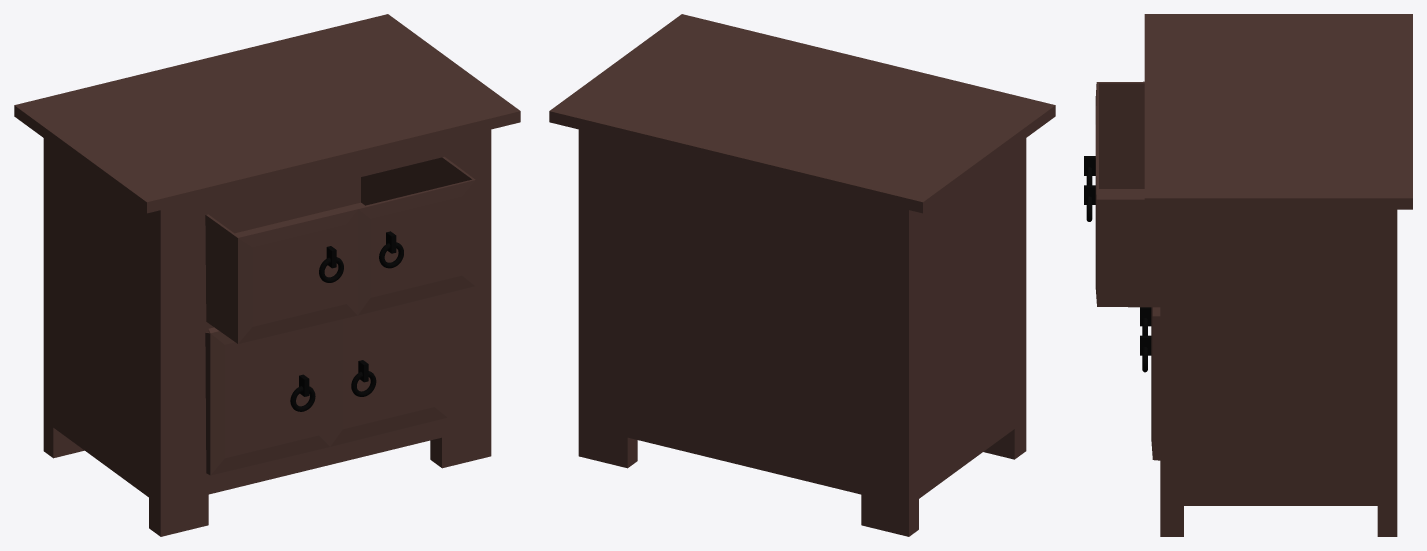
File: armáriogaveteiro.fbx
3 renders of one model, left to right at view 1: azimuth 30°, elevation 25°; view 2: azimuth 150°, elevation 25°; view 3: azimuth 270°, elevation 25°, orthographic.
Parts seen in each view (by area): view 1: gaveteiro base, gaveteiro puxar; view 2: gaveteiro base; view 3: gaveteiro base, gaveteiro puxar.
Part boxes in pixels (bbox=[...]): gaveteiro base: bbox=[14, 14, 520, 536]; gaveteiro puxar: bbox=[205, 156, 475, 475]; gaveteiro base: bbox=[549, 14, 1055, 536]; gaveteiro base: bbox=[1144, 14, 1412, 536]; gaveteiro puxar: bbox=[1084, 81, 1160, 460].
Bounding box in the file's own units: 121 × 107 × 90.85.
